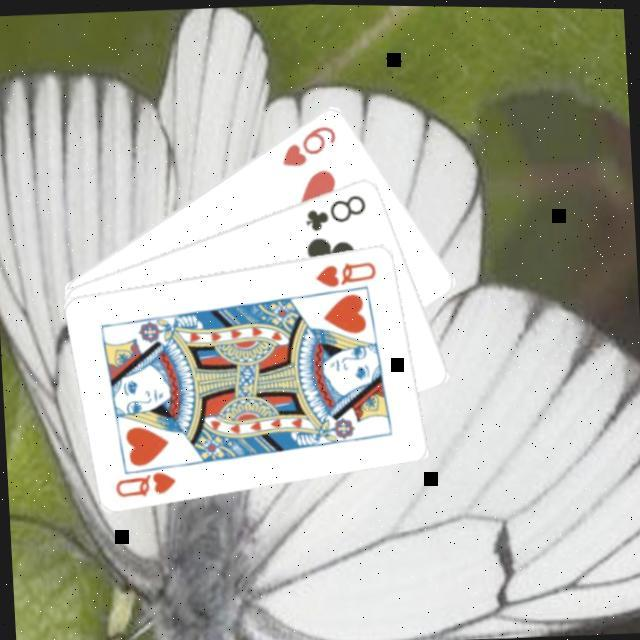6H: (279, 121, 343, 171)
8C: (303, 190, 373, 237)
QH: (113, 459, 189, 504), (314, 257, 384, 293)
